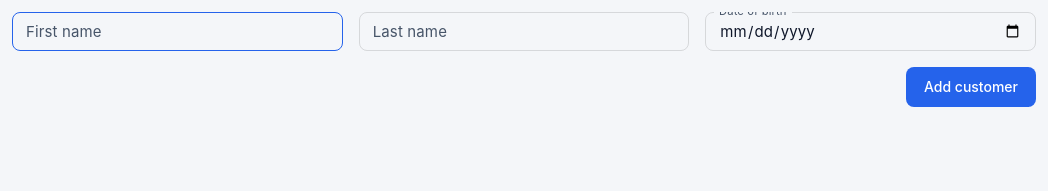
Test: CustomerForm › shows Alert for 409 duplicate customer
Type "Alice" into the field labelled "First name". click: (177, 31)
box: [12,12,343,51]
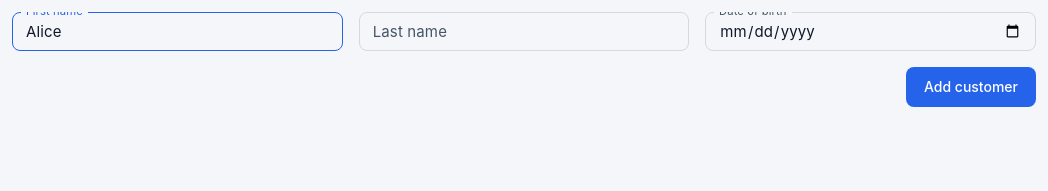
Type "Smith" into the field labelled "Last name". click: (524, 31)
box: [359,12,689,51]
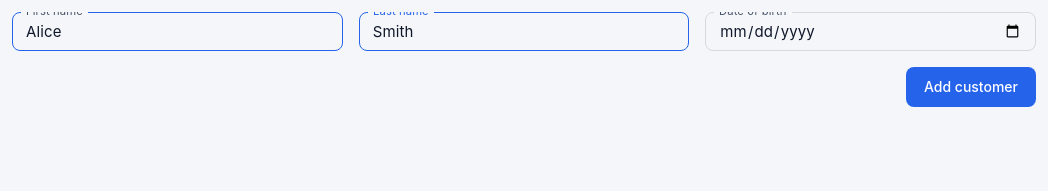
Type "1985-03-10" into the date field labelled "Date of birth". click: (871, 31)
box: [705,12,1036,51]
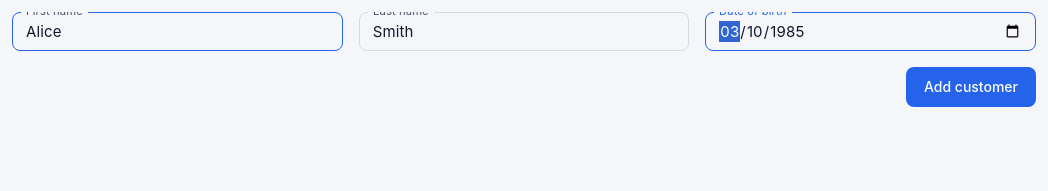
Click the button "Add customer". click: (971, 87)
box: [906,67,1036,107]
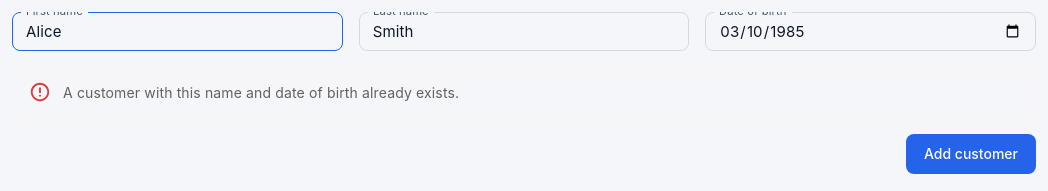
Check: the message shows "already exists", box [63,84,459,101]
